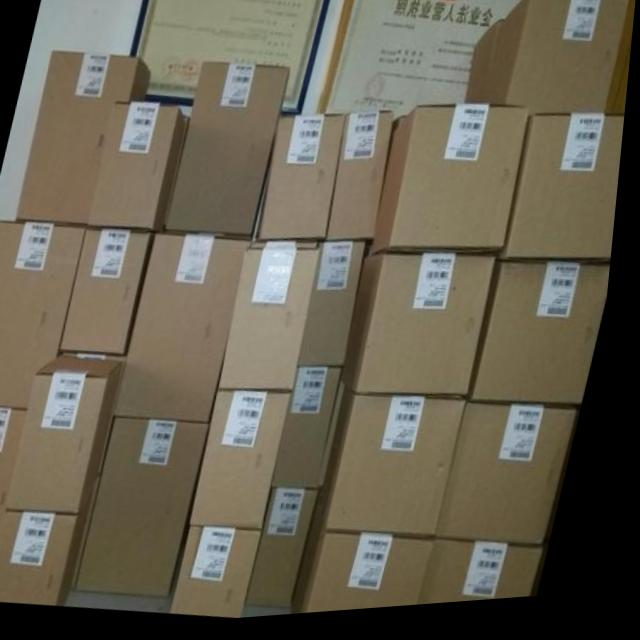box: (122, 233, 254, 425), (83, 420, 219, 601), (374, 110, 534, 263), (18, 50, 154, 229), (348, 258, 502, 406), (474, 265, 617, 419), (330, 393, 473, 547), (168, 65, 291, 243), (445, 409, 587, 555), (16, 355, 132, 517), (503, 123, 628, 271), (0, 221, 91, 413), (490, 0, 630, 123), (304, 502, 446, 619), (226, 245, 325, 398), (201, 393, 299, 536), (92, 102, 191, 237), (66, 227, 157, 360), (0, 493, 105, 608), (261, 120, 349, 247), (256, 492, 330, 615), (332, 116, 397, 247), (182, 529, 272, 623), (304, 248, 372, 372), (282, 372, 351, 493), (431, 546, 556, 612), (0, 408, 38, 587), (467, 27, 504, 111), (330, 386, 354, 501)
